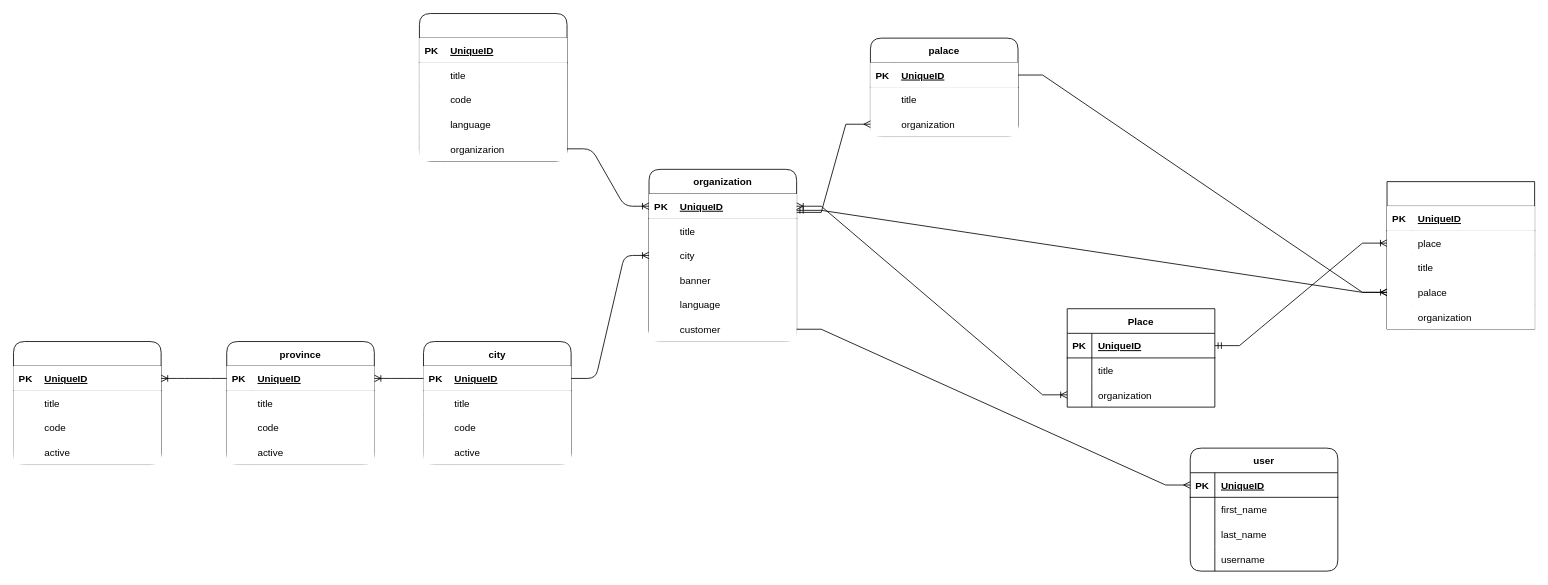
This 1548x585 diagram has some shape labels left out. Each missing label, with the box of its shape:
country: (13, 341, 161, 465)
department: (1386, 181, 1535, 329)
language_caption: (419, 13, 567, 161)
